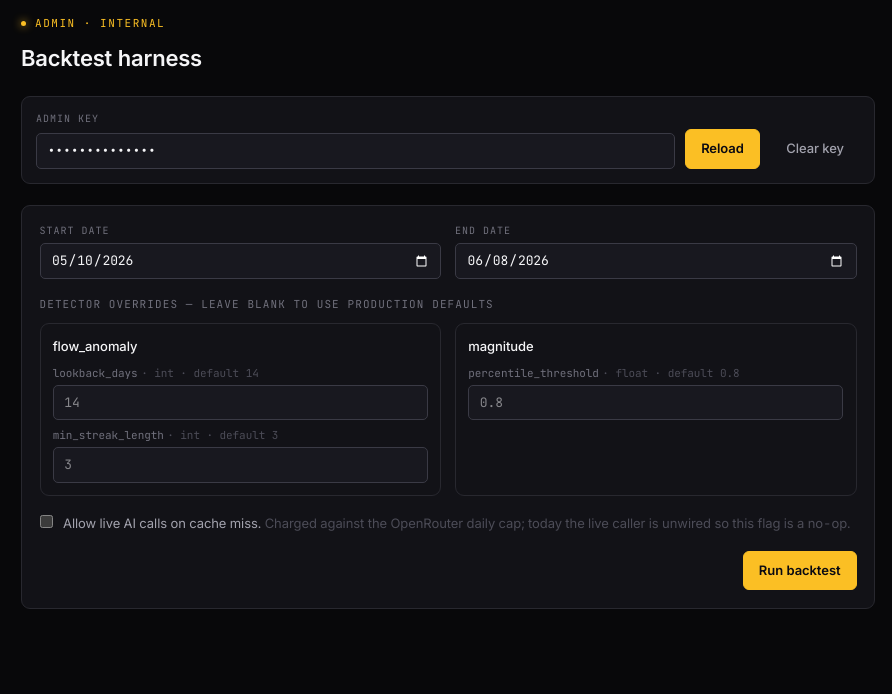
Test case: BacktestPage results › renders a Callout on mutation error instead of the results card
The width and height of the screenshot is (892, 694).
Expected: the text "flow_anomaly" is shown, [53,338,137,354]
Click the button "Run backtest" at (800, 570), box [743,550,856,590]
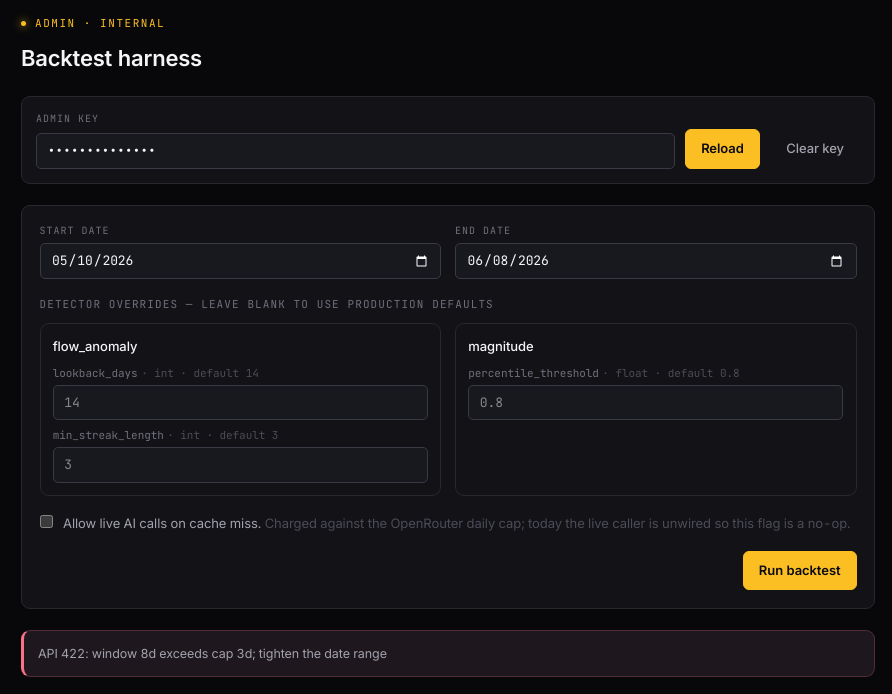
Expected: the text "API 422: window 8d exceeds cap 3d; tighten the date range" is shown, [38,644,387,663]
